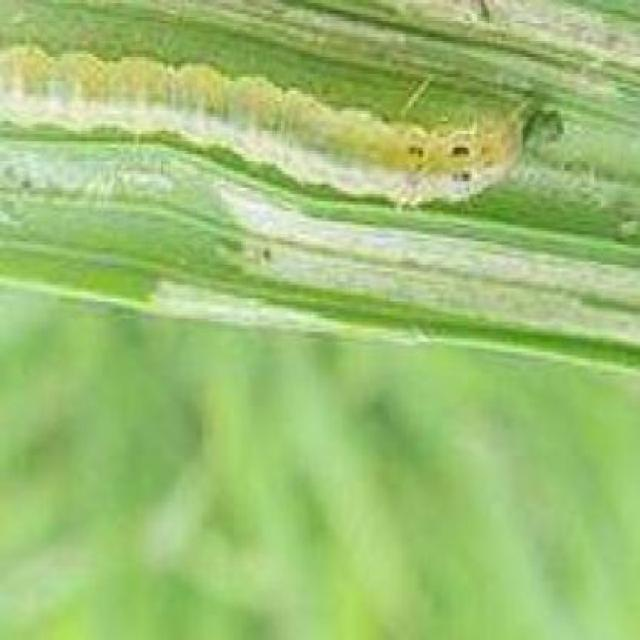leaf-folder: (1, 22, 568, 235)
